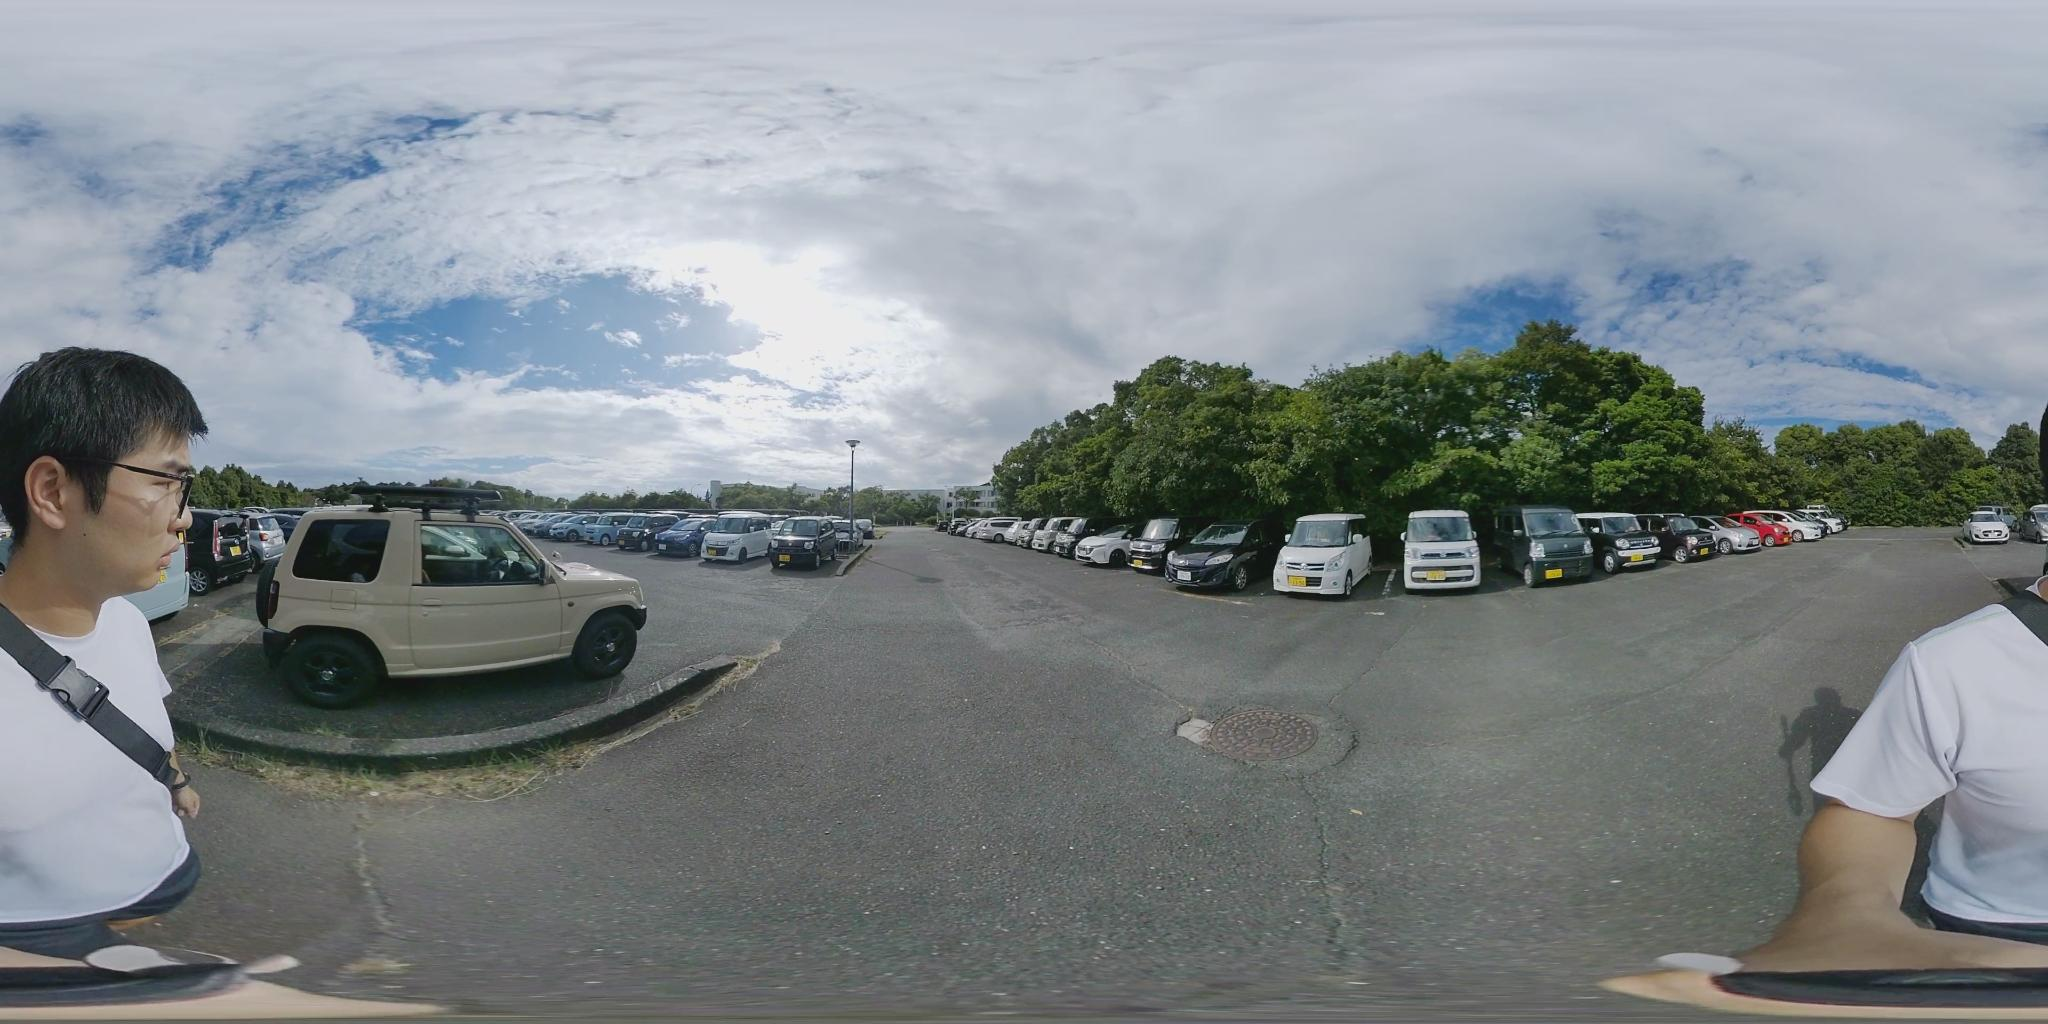car: (252, 509, 653, 711), (1272, 513, 1371, 598), (755, 516, 883, 572), (1498, 503, 1590, 580), (1160, 521, 1259, 586), (1403, 512, 1480, 592), (1590, 515, 1671, 572), (695, 512, 781, 562), (1097, 519, 1177, 569), (1724, 513, 1802, 550), (643, 517, 709, 555), (1778, 512, 1843, 542), (1960, 513, 2014, 546), (1792, 508, 1853, 536), (960, 520, 1023, 545)
